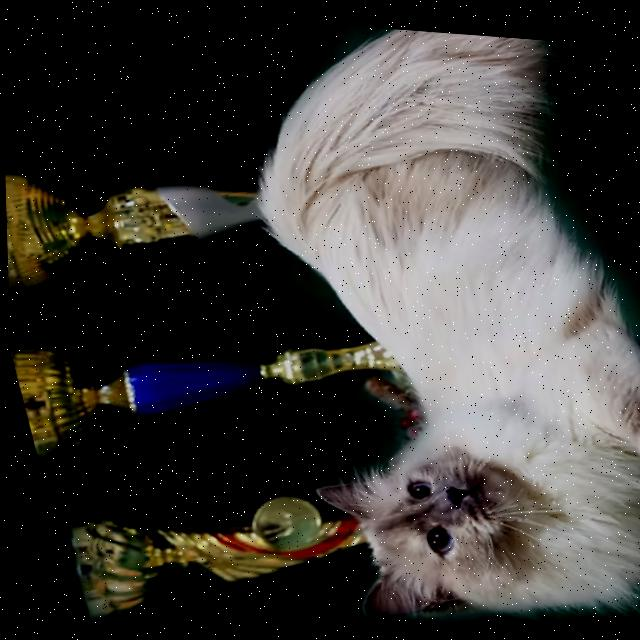Neva Masquerade: (192, 11, 640, 640)
